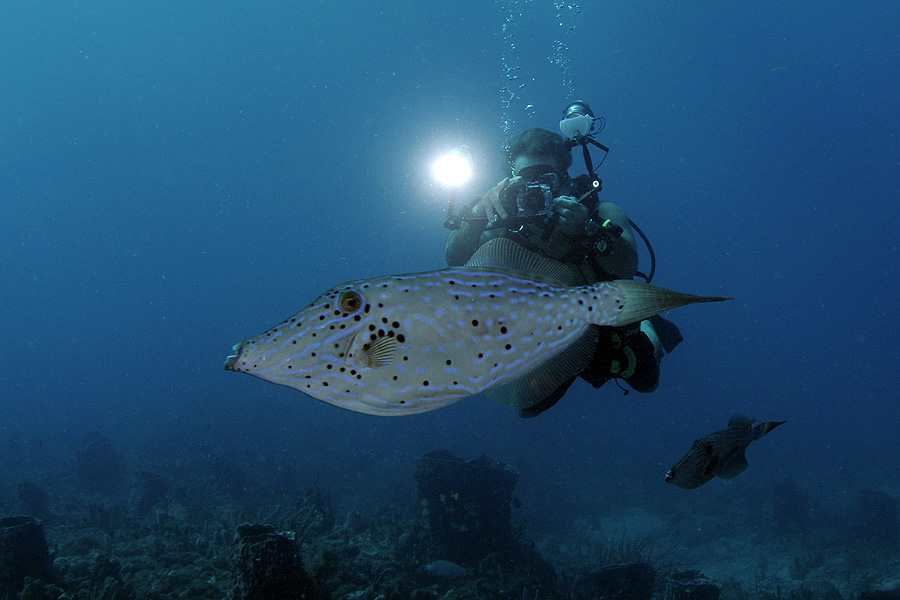Aluterus_scriptus: (221, 264, 731, 421), (661, 412, 792, 500)
